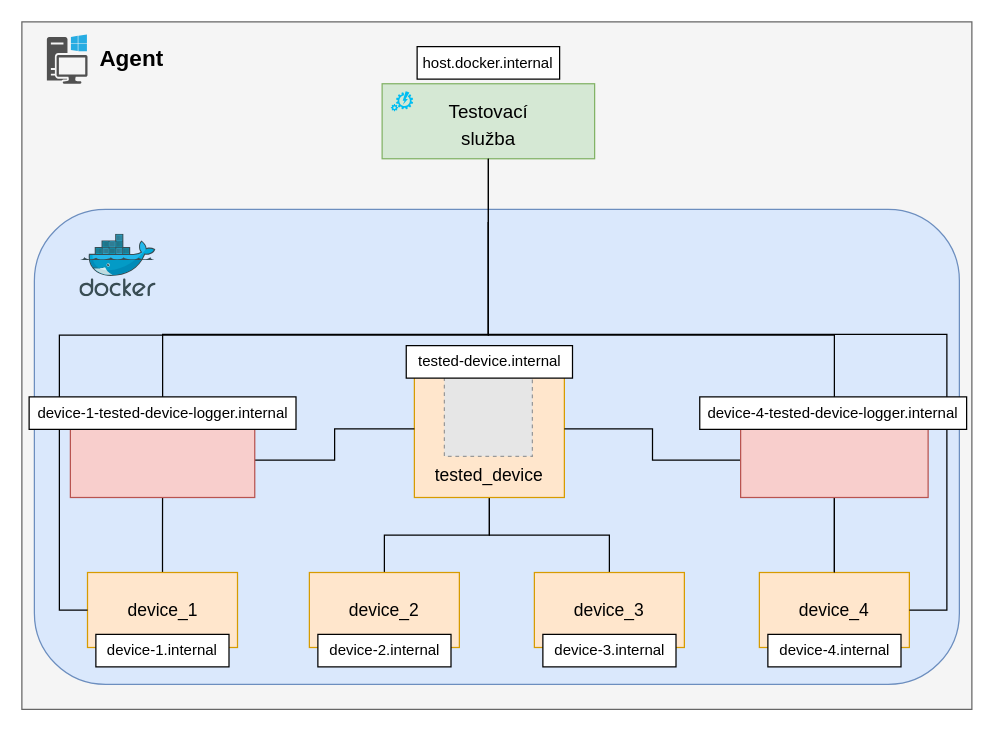
The diagram is 994 pixels wide and 731 high, and some of its shapes have lost their labels. Grey dashed boxes stand in for pictures. Here are the shapes that lost their labels. From the top down, the centre of each, then its label:
point 162,459: device_1- tested_device_logger
point 833,459: device_4- tested_device_logger
